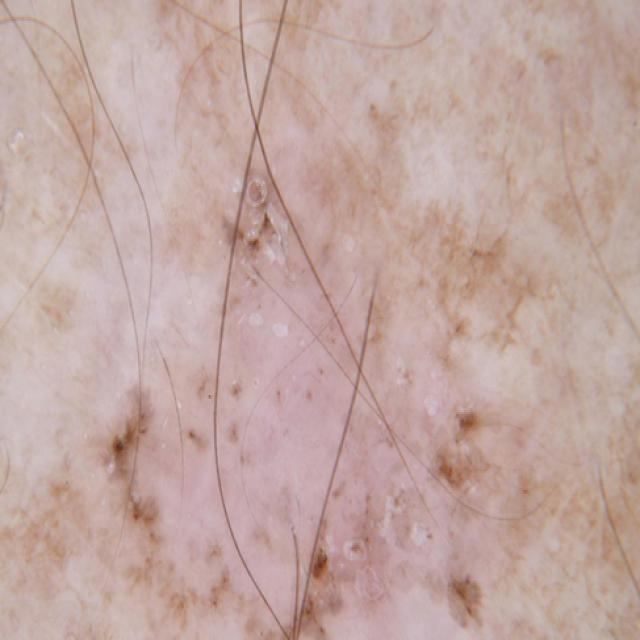Carcinoma: (63, 127, 618, 640)
